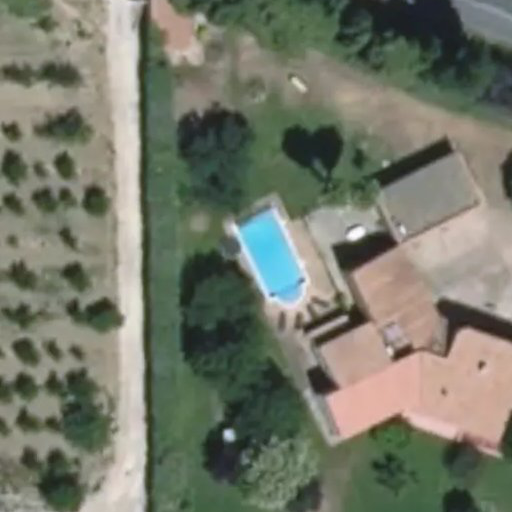pool: (214, 215, 298, 267)
